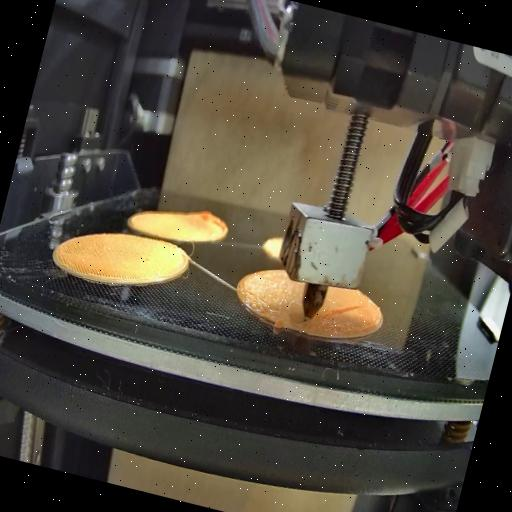over_extrusion: (316, 294, 364, 332), (194, 204, 234, 240), (291, 314, 307, 332)
